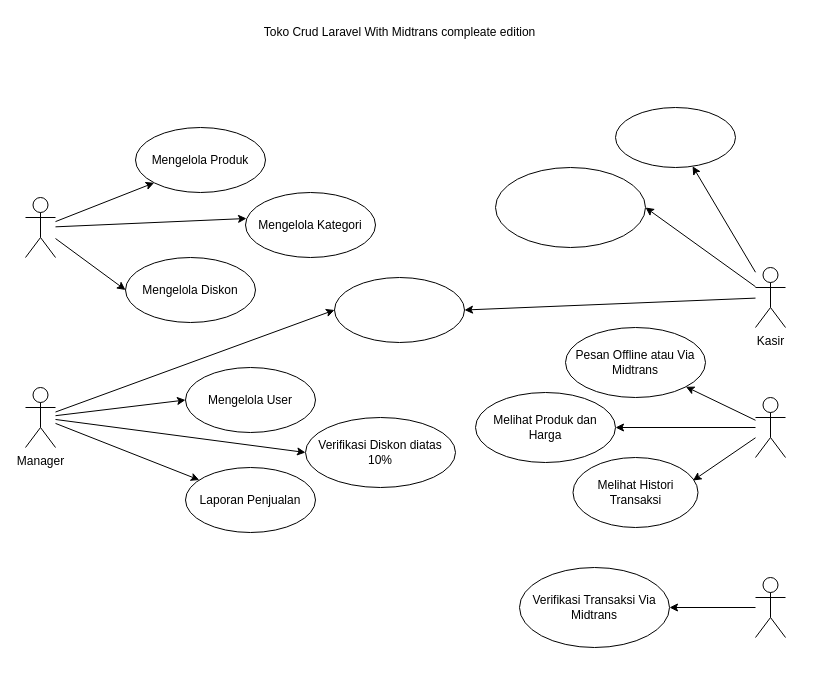
The diagram is 816 pixels wide and 675 high, and some of its shapes have lost their labels. The centre of each missing label's shape, as x and y in pixels:
Admin: the point at 40,227
Melakukan Transaksi Manual atau Via Midtrans: the point at 570,207
Melihat Semua Histori Transaksi: the point at 399,309
Mencetak Struk: the point at 675,137
Midtrans: the point at 770,607
Pelanggan: the point at 770,427
